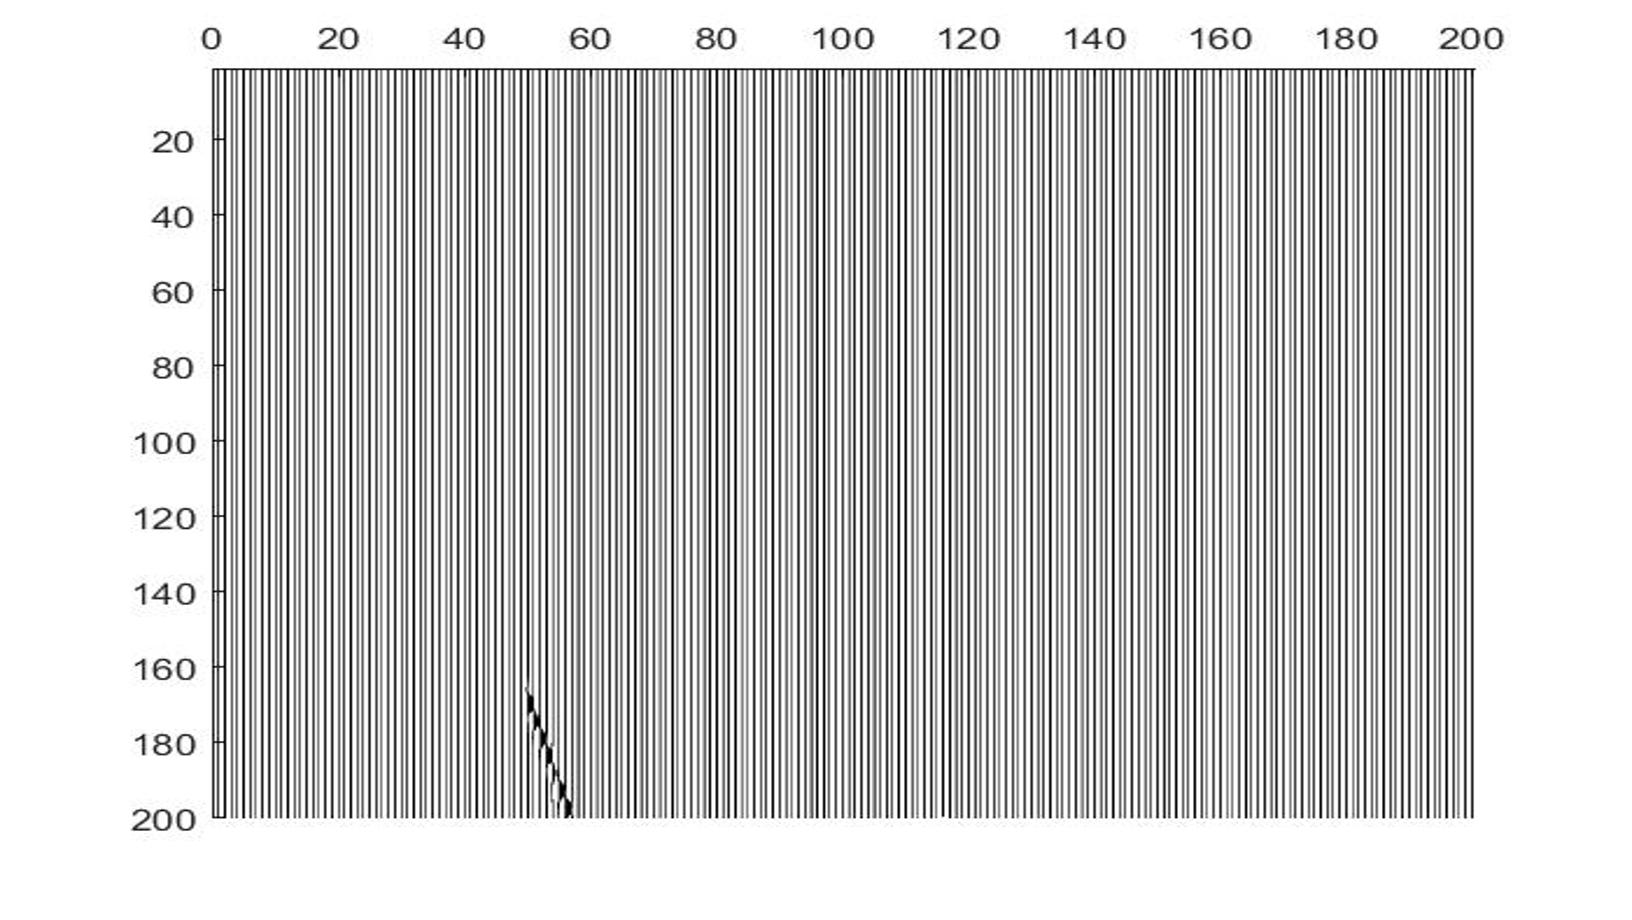signal: (513, 679, 577, 816)
